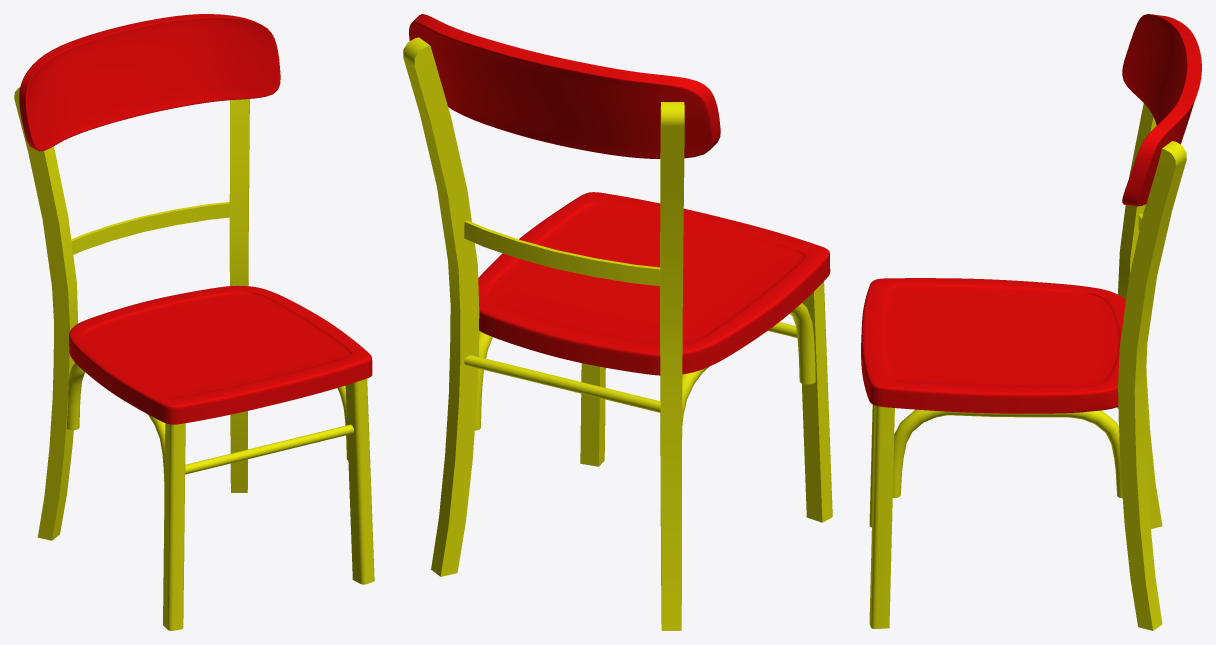
The model's file is DB_Chair.fbx.
3 views of the same model, side by side, from view 1: azimuth 30°, elevation 25°; view 2: azimuth 150°, elevation 25°; view 3: azimuth 270°, elevation 25° (orthographic). The views are drawn at different scales.
Parts seen in each view (by area): view 1: Rounded_parts, Straight_parts; view 2: Rounded_parts, Straight_parts; view 3: Rounded_parts, Straight_parts.
Part boxes in pixels (x1,y1,x2,y2): Rounded_parts: [19, 14, 372, 424]; Straight_parts: [14, 87, 374, 630]; Rounded_parts: [409, 14, 830, 375]; Straight_parts: [403, 37, 832, 630]; Rounded_parts: [861, 14, 1201, 413]; Straight_parts: [869, 103, 1186, 630].
Bounding box in the file's own units: 0.4211 × 0.7534 × 0.4561.
